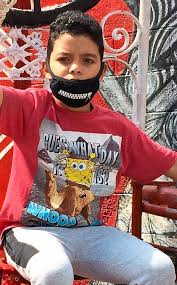mask_weared_incorrect: (46, 47, 102, 98)
